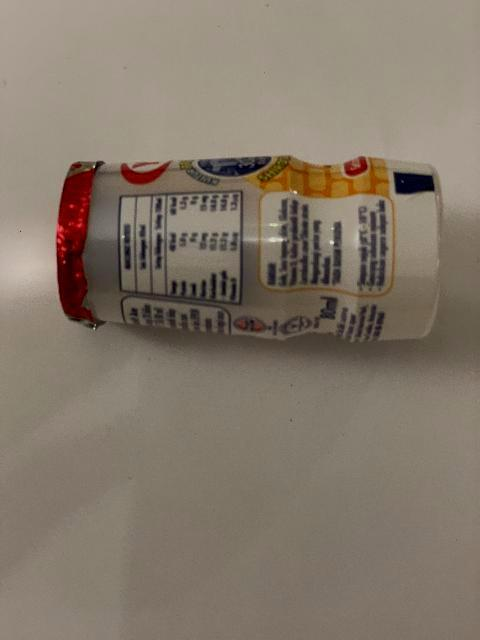plasticbottle: (56, 154, 444, 343)
